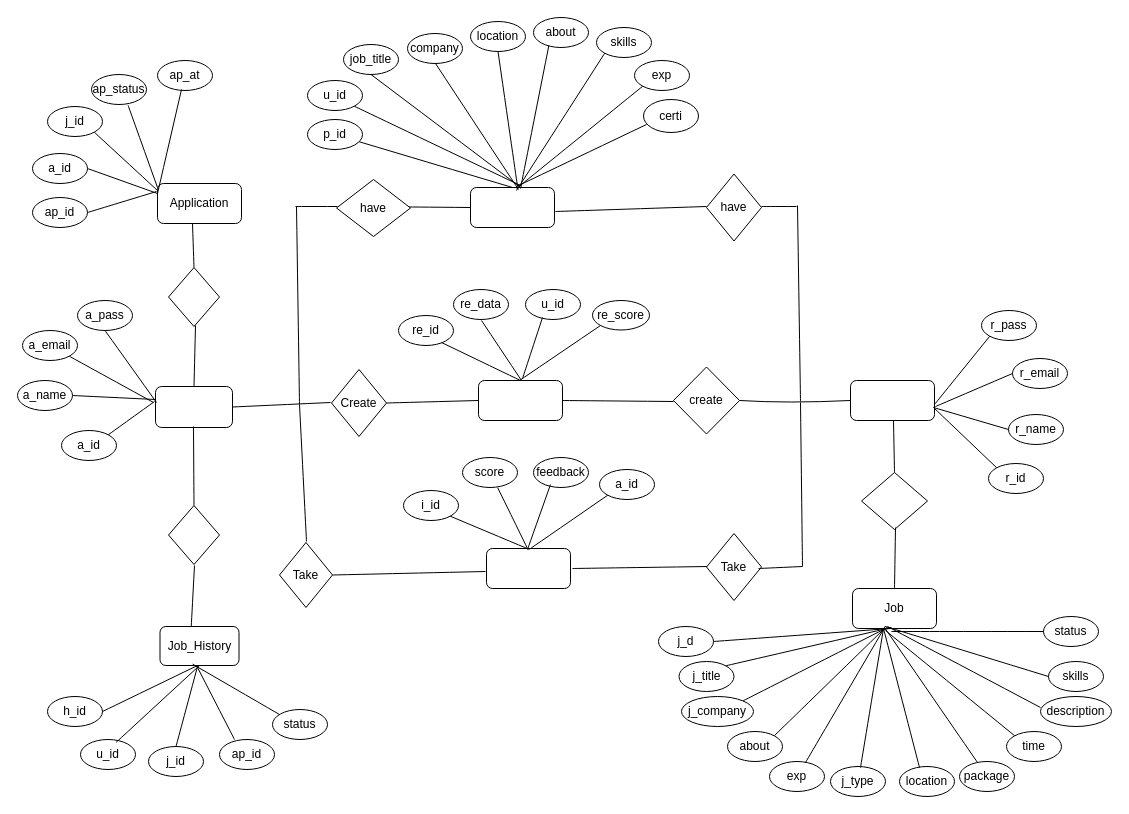
This 1129x814 diagram has some shape labels left out. Here are the shapes that lost their labels. From the top down, the centre of each, then its label:
At point 512,207: "Profile".
At point 194,296: "apply".
At point 193,407: "Applicant".
At point 520,400: "Resume".
At point 892,400: "Recruiter".
At point 894,501: "post".
At point 194,534: "check".
At point 528,568: "Interview".
